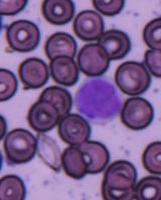L: (75, 74, 124, 124)
